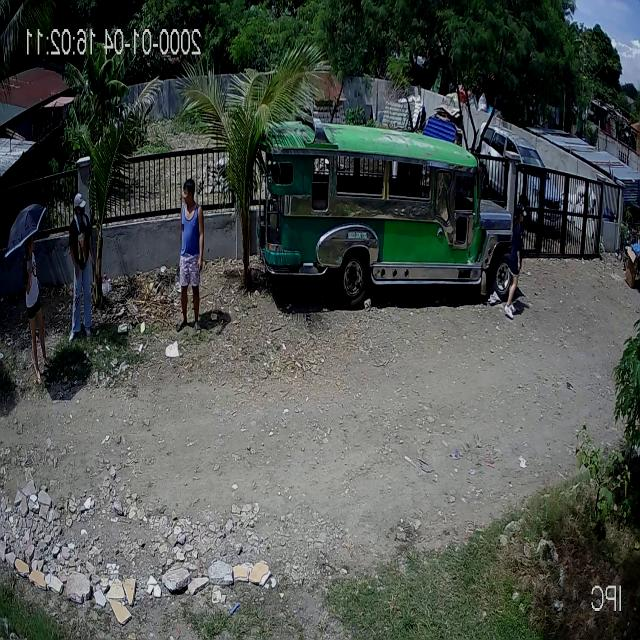standing: (65, 198, 96, 340), (24, 239, 52, 387)
walking: (172, 175, 206, 338), (504, 207, 532, 321)
